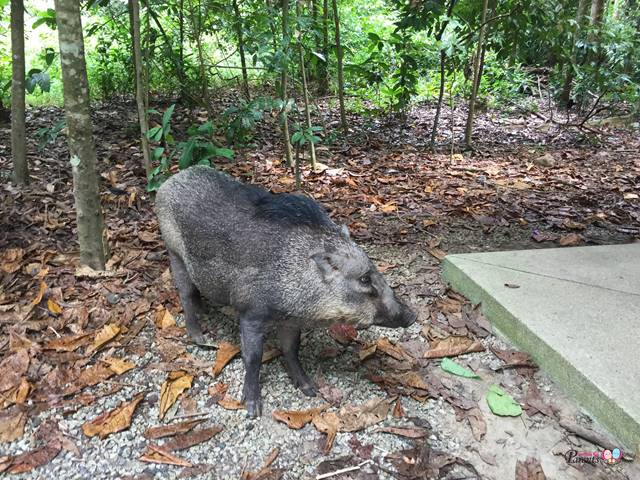boar: (155, 162, 413, 422)
